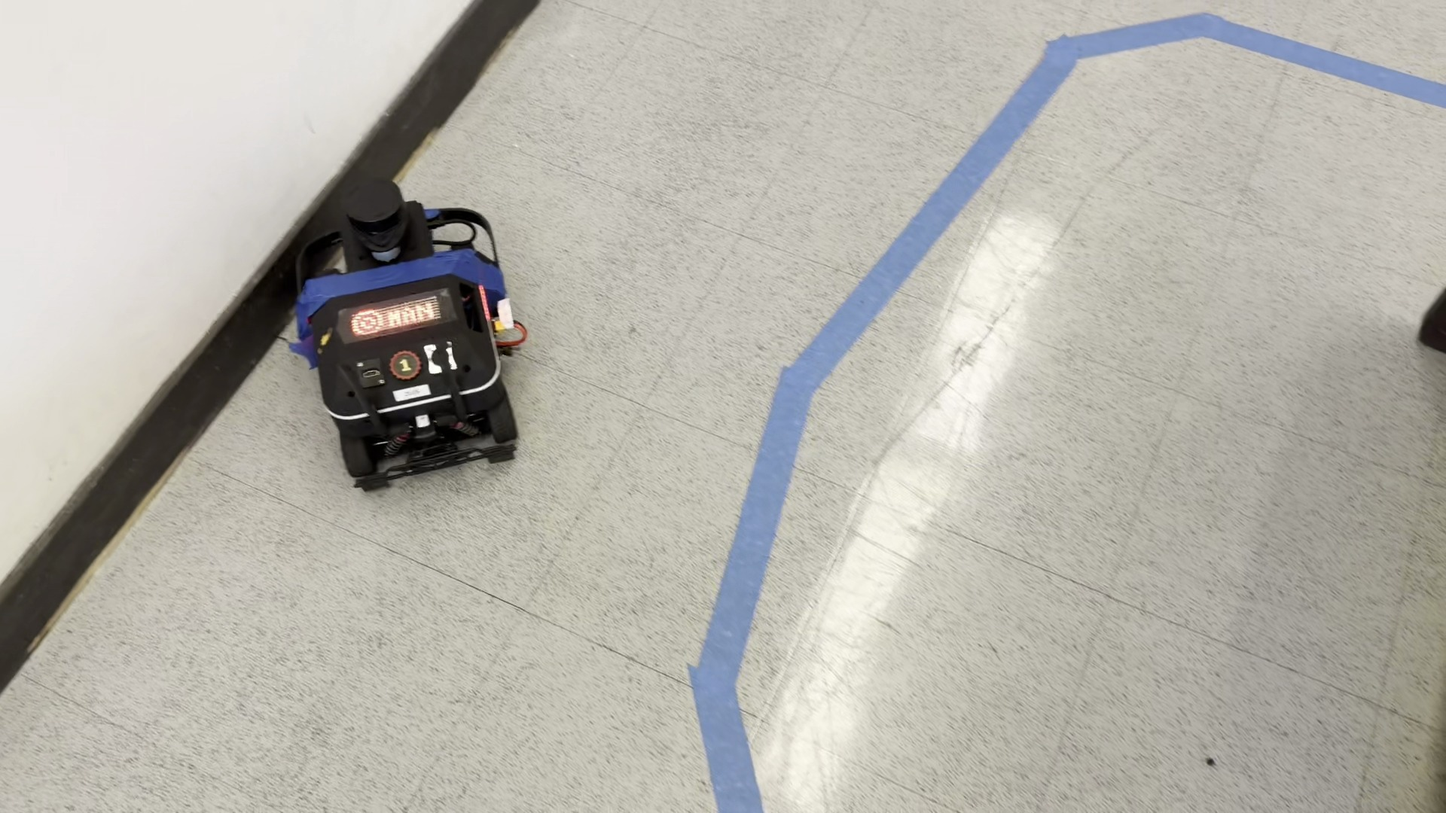racecar: (286, 194, 527, 489)
